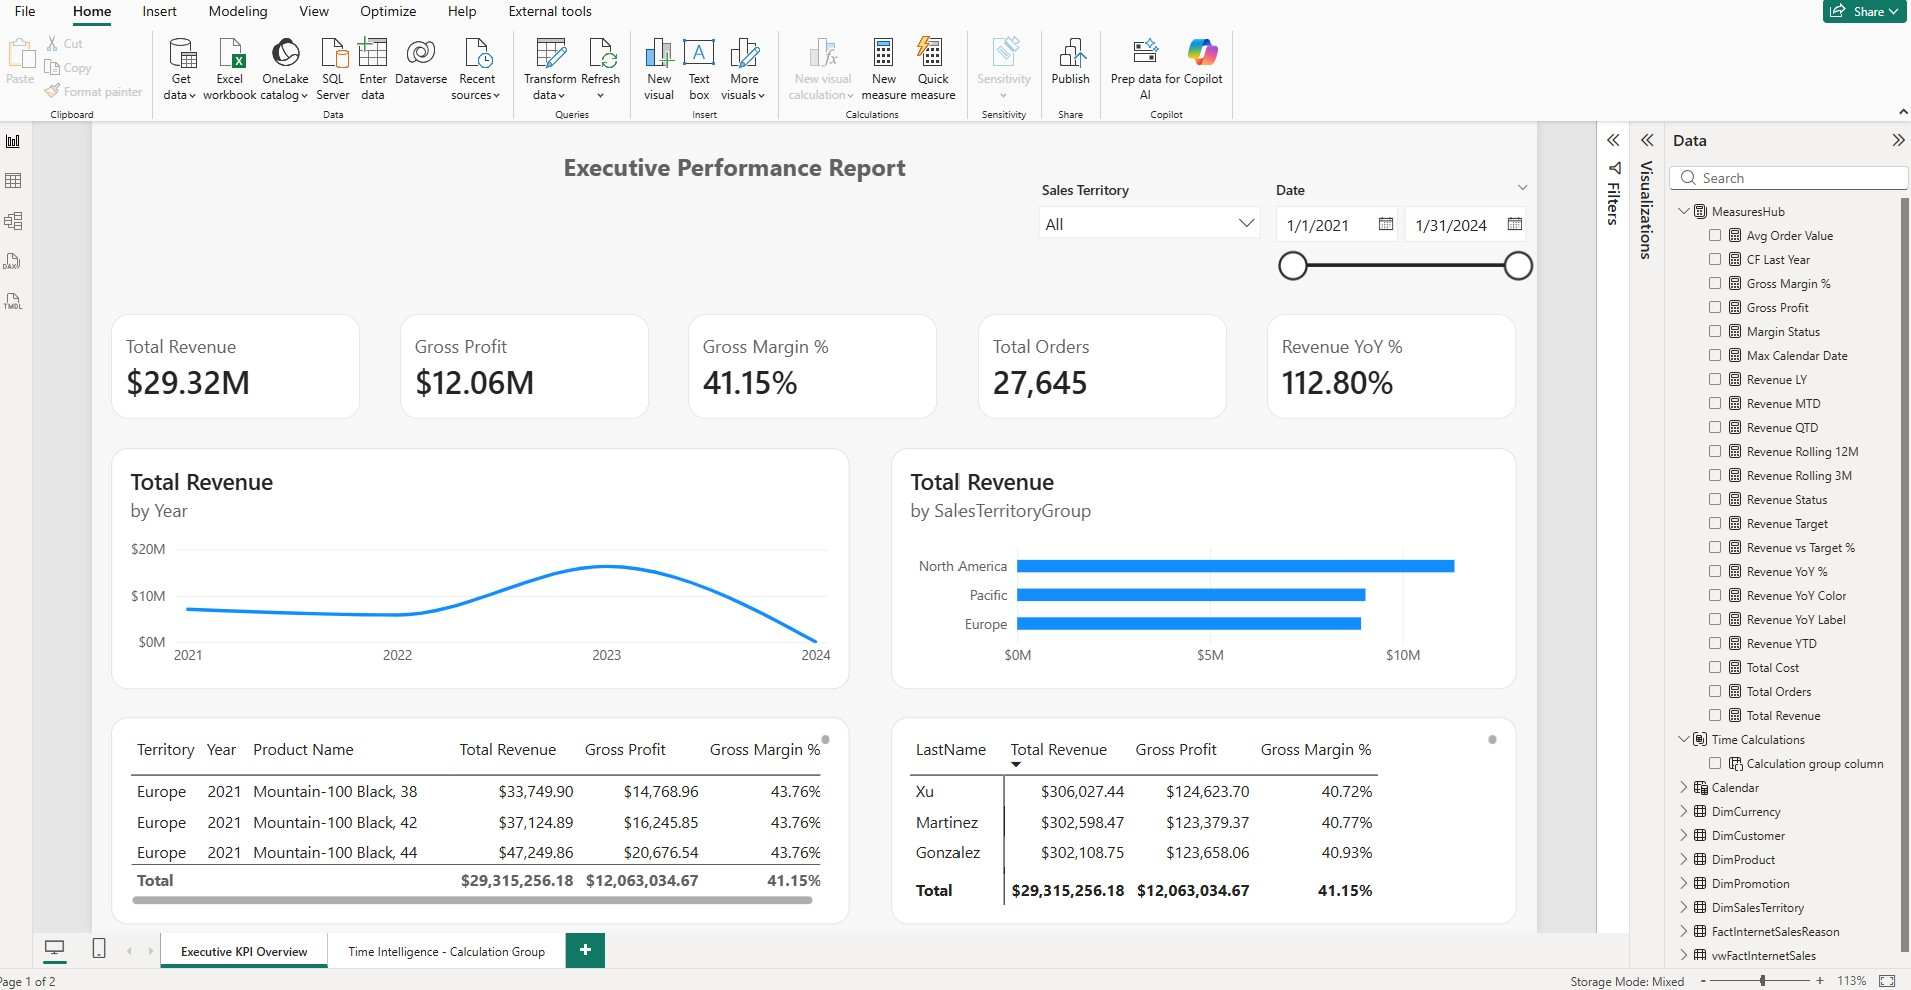

The page's visual inventory and layout, read from the dashboard file:
{"tool":"powerbi","page":{"name":"Executive KPI Overview","canvas":[1280,720],"ordinal":0},"visuals":[{"type":"textbox","box":[390.5,26,359.2,52],"z":0},{"type":"slicer","fields":{"Values":["Calendar.Date"]},"box":[1041,52.3,239.4,88.7],"z":1000},{"type":"slicer","fields":{"Values":["DimSalesTerritory.SalesTerritoryGroup"]},"box":[833.5,52.3,207.5,88.7],"z":2000},{"type":"cardVisual","fields":{"Data":["MeasuresHub.Total Sales"]},"box":[16.8,171,221.4,93.4],"z":3000},{"type":"cardVisual","fields":{"Data":["MeasuresHub.Total Profit"]},"box":[272.8,171,221.4,93.4],"z":4000},{"type":"cardVisual","fields":{"Data":["MeasuresHub.Total Orders"]},"box":[784.8,171,221.4,93.4],"z":5000},{"type":"cardVisual","fields":{"Data":["MeasuresHub.Profit Margin %"]},"box":[528.8,171,221.4,93.4],"z":6000},{"type":"cardVisual","fields":{"Data":["MeasuresHub.Sales YoY %"]},"box":[1040.8,171,221.4,93.4],"z":7000},{"type":"tableEx","fields":{"Values":["DimSalesTerritory.SalesTerritoryGroup","Calendar.Year","DimProduct.EnglishProductName","MeasuresHub.Total Sales","MeasuresHub.Total Profit","MeasuresHub.Profit Margin %"]},"box":[16.8,528.7,654.7,183.6],"z":8000},{"type":"lineChart","fields":{"Category":["Calendar.Year"],"Y":["MeasuresHub.Total Sales"]},"box":[16.8,289.5,654.7,214],"z":9000},{"type":"clusteredBarChart","fields":{"Category":["DimSalesTerritory.SalesTerritoryGroup"],"Y":["MeasuresHub.Total Sales"]},"box":[708.2,289.5,554,214],"z":10000},{"type":"pivotTable","fields":{"Rows":["DimCustomer.LastName"],"Values":["MeasuresHub.Total Sales","MeasuresHub.Total Profit","MeasuresHub.Profit Margin %"]},"box":[708.2,528.8,554,183.6],"z":11000}]}

Visuals, with their boxes on the page's 1280x720 design canvas (x1, y1, x2, y2). These are canvas units, not pixel positions in the 1911x990 screenshot, which may show the page scaled, cropped or inside an application window:
textbox: left=390, top=26, right=750, bottom=78
slicer - Calendar.Date: left=1041, top=52, right=1280, bottom=141
slicer - DimSalesTerritory.SalesTerritoryGroup: left=834, top=52, right=1041, bottom=141
cardVisual - MeasuresHub.Total Sales: left=17, top=171, right=238, bottom=264
cardVisual - MeasuresHub.Total Profit: left=273, top=171, right=494, bottom=264
cardVisual - MeasuresHub.Total Orders: left=785, top=171, right=1006, bottom=264
cardVisual - MeasuresHub.Profit Margin %: left=529, top=171, right=750, bottom=264
cardVisual - MeasuresHub.Sales YoY %: left=1041, top=171, right=1262, bottom=264
tableEx - DimSalesTerritory.SalesTerritoryGroup x Calendar.Year: left=17, top=529, right=672, bottom=712
lineChart - Calendar.Year x MeasuresHub.Total Sales: left=17, top=290, right=672, bottom=504
clusteredBarChart - DimSalesTerritory.SalesTerritoryGroup x MeasuresHub.Total Sales: left=708, top=290, right=1262, bottom=504
pivotTable - DimCustomer.LastName x MeasuresHub.Total Sales: left=708, top=529, right=1262, bottom=712
